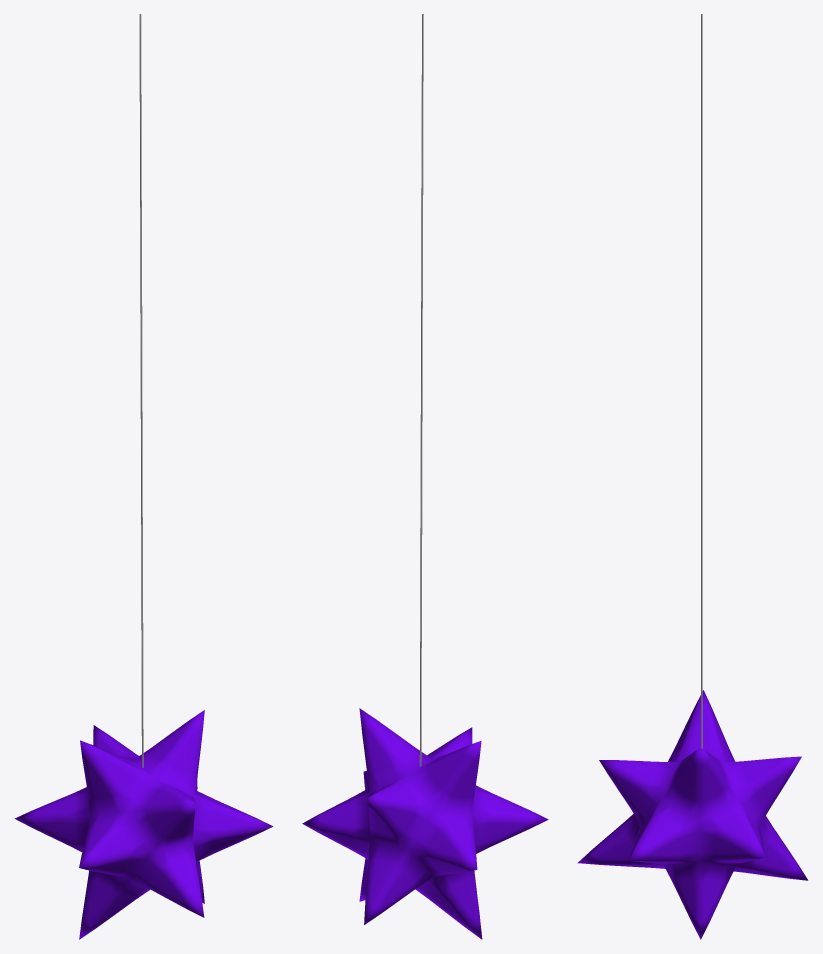
The model's file is Hanging_Star_Blue.fbx.
The picture shows the model from 3 angles, left to right: view 1: azimuth 30°, elevation 25°; view 2: azimuth 150°, elevation 25°; view 3: azimuth 270°, elevation 25°; orthographic projection.
Parts seen in each view (by area): view 1: HangingStar_A5, Star_Cable; view 2: HangingStar_A5, Star_Cable; view 3: HangingStar_A5, Star_Cable.
Boxes of the visible parts, x1,y1,x2,y2 form: HangingStar_A5: (14, 710, 273, 939); Star_Cable: (139, 14, 143, 767); HangingStar_A5: (302, 708, 548, 939); Star_Cable: (419, 14, 423, 766); HangingStar_A5: (577, 690, 808, 939); Star_Cable: (701, 14, 702, 748).
Size of the model in its own units: 104 by 476 by 111.
